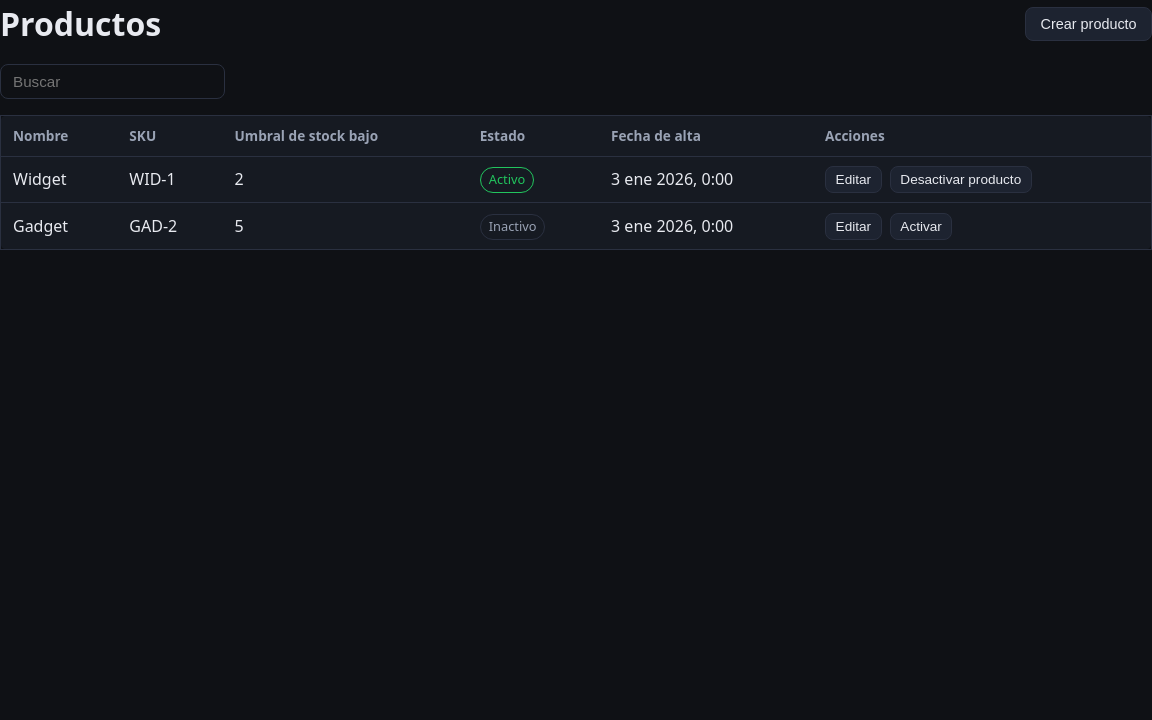
Scenario: R-UI-CRM-6: create product › R-UI-CRM-6: duplicate sku → localized 409, form data intact
Expected: the text "Widget" is shown, [0,156,117,203]
Click the button "Crear producto". click: (1089, 24)
box: [1025,7,1151,41]
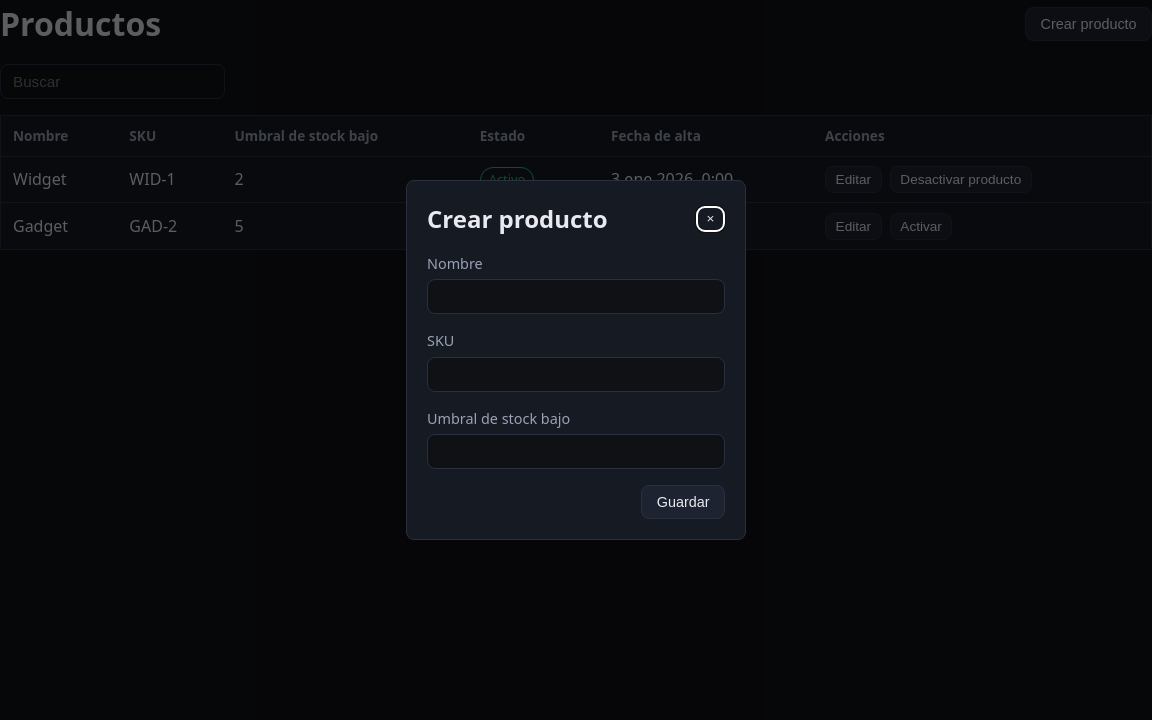
Type "Copia" into the field labelled "Nombre". click: (576, 297)
box: [427,279,725,314]
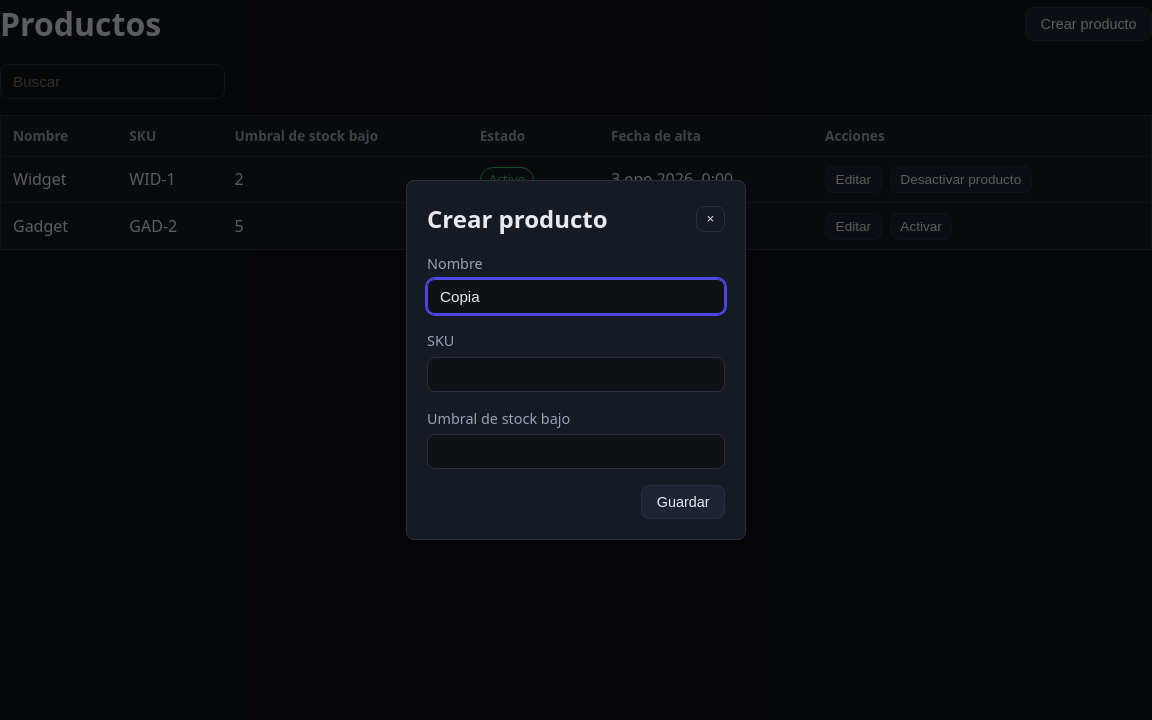
Type "WID-1" into the field labelled "SKU". click: (576, 374)
box: [427,357,725,392]
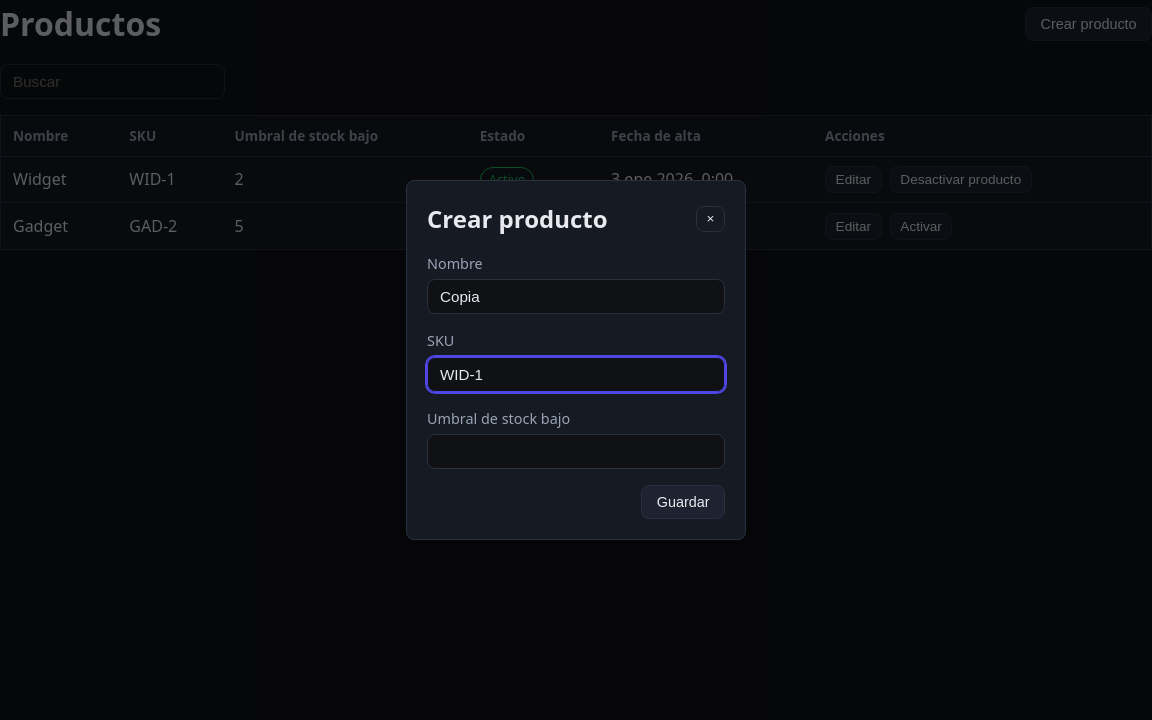
Click the button "Guardar". click: (683, 502)
box: [641,485,725,519]
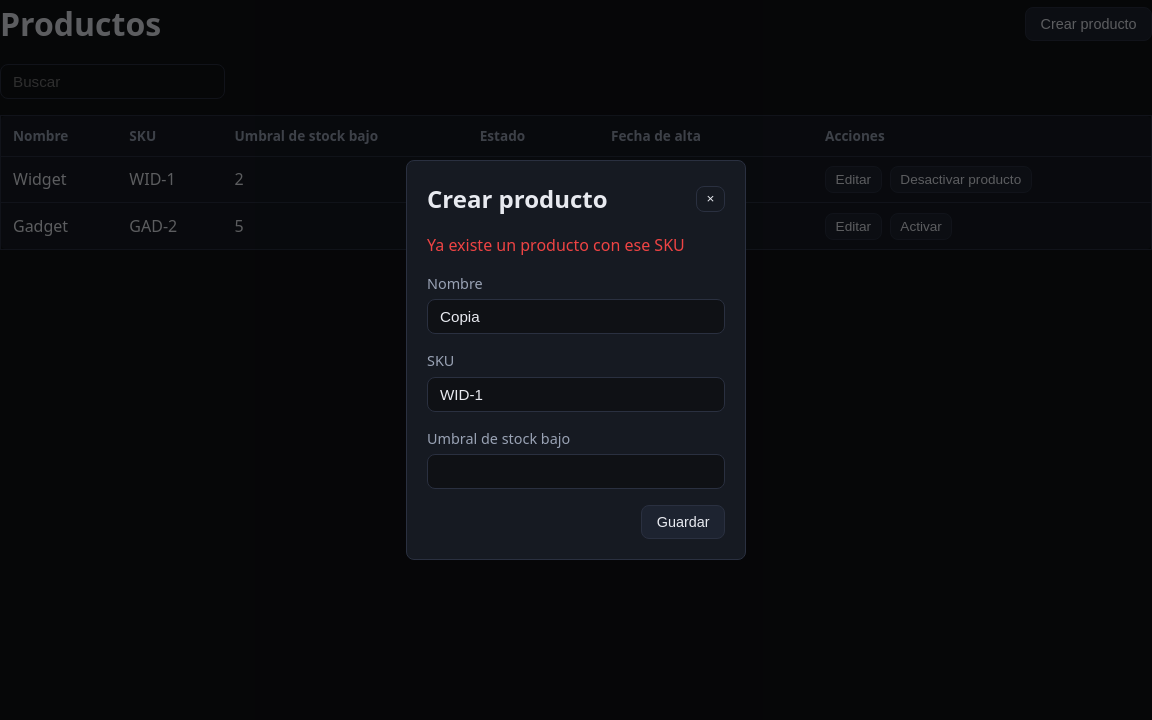
Expected: the text "Ya existe un producto con ese SKU" is shown, [427,233,725,257]
